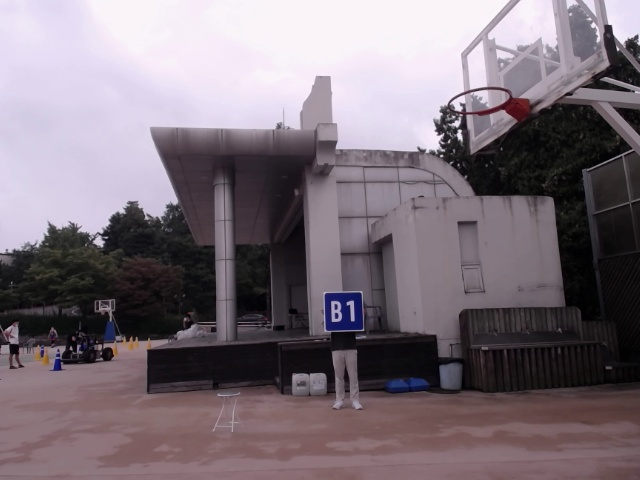delivery_b1: (324, 291, 364, 332)
